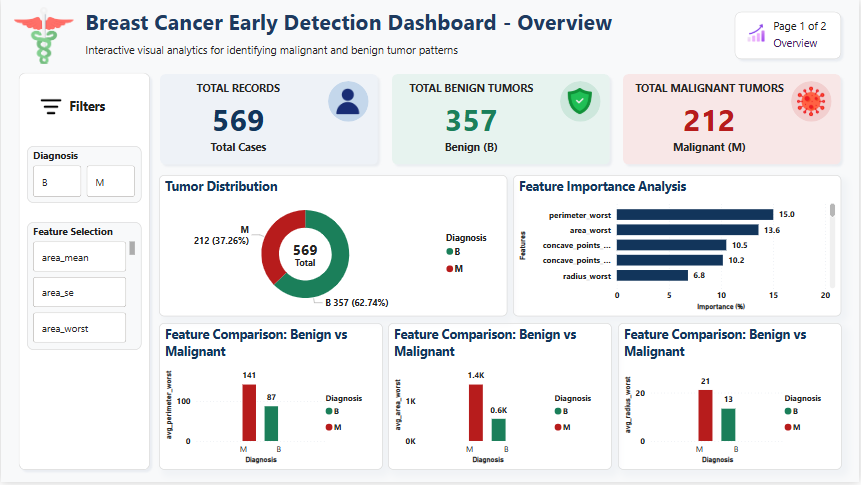

This screenshot's page, from the dashboard's own definition file:
{"tool":"powerbi","page":{"name":"Page 1","canvas":[1280,720],"ordinal":0},"visuals":[{"type":"textbox","box":[121.4,3.9,805.3,59.3],"z":0},{"type":"textbox","box":[1148,23.1,92.5,34.4],"z":0,"group":"g3"},{"type":"textbox","box":[410.9,352.8,86.7,40.5],"z":0,"group":"g1"},{"type":"textbox","box":[1148,48,92.5,34.4],"z":1000,"group":"g3"},{"type":"textbox","box":[121.4,58.8,574,36.1],"z":1000},{"type":"textbox","box":[410.9,378.8,86.7,34.7],"z":1000,"group":"g1"},{"type":"shape","box":[19.4,101.5,210.4,607],"z":2000},{"type":"advancedSlicerVisual","fields":{"Values":["early_disease vw_base_breast_cancer.diagnosis"]},"box":[39,218.3,170.6,85.3],"z":3000},{"type":"advancedSlicerVisual","fields":{"Values":["early_disease vw_feature_importance.feature"]},"box":[39,331.1,170.6,190.8],"z":4000},{"type":"shape","box":[229.9,103.1,340,150],"z":5000},{"type":"shape","box":[575.4,102.7,339.8,150.4],"z":6000},{"type":"shape","box":[921,102.7,339.8,150.4],"z":7000},{"type":"card","title":"TOTAL RECORDS","fields":{"Values":["early_disease breast_cancer.kpi_total_records"]},"box":[274.7,121.4,159,112.8],"z":8000},{"type":"card","title":"TOTAL BENIGN TUMORS","fields":{"Values":["early_disease breast_cancer.kpi_total_benign"]},"box":[598.6,121.4,206.7,112.8],"z":9000},{"type":"card","title":"TOTAL MALIGNANT TUMORS","fields":{"Values":["early_disease breast_cancer.kpi_total_malignant"]},"box":[939.8,121.4,234.2,112.8],"z":10000},{"type":"donutChart","title":"Tumor Distribution","fields":{"Category":["early_disease vw_tumor_distribution.diagnosis"],"Y":["Sum(early_disease vw_tumor_distribution.tumor_count)"]},"box":[235.7,261.7,520,211.1],"z":11000,"group":"g2"},{"type":"clusteredBarChart","title":"Feature Importance Analysis","fields":{"Category":["early_disease vw_feature_importance.feature"],"Y":["Sum(early_disease vw_feature_importance.importance_pct)"]},"box":[764.8,261.7,490.1,211.1],"z":11000},{"type":"clusteredColumnChart","title":"Feature Comparison: Benign vs Malignant ","fields":{"Y":["Sum(early_disease vw_feature_comparison.avg_perimeter_worst)"],"Category":["early_disease vw_feature_comparison.diagnosis"],"Series":["early_disease vw_base_breast_cancer.diagnosis"]},"box":[235.8,482.1,334.3,219.4],"z":12000},{"type":"clusteredColumnChart","title":"Feature Comparison: Benign vs Malignant ","fields":{"Category":["early_disease vw_feature_comparison.diagnosis"],"Series":["early_disease vw_base_breast_cancer.diagnosis"],"Y":["Sum(early_disease vw_feature_comparison.avg_radius_worst)"]},"box":[920.9,482.1,334.3,219.4],"z":13000},{"type":"group","id":"g1","title":"Group 1","box":[410.9,352.8,86.7,60.7],"z":14000,"group":"g2"},{"type":"clusteredColumnChart","title":"Feature Comparison: Benign vs Malignant ","fields":{"Category":["early_disease vw_feature_comparison.diagnosis"],"Series":["early_disease vw_base_breast_cancer.diagnosis"],"Y":["Sum(early_disease vw_feature_comparison.avg_area_worst)"]},"box":[577.6,482.1,334.3,219.4],"z":14000},{"type":"group","id":"g2","title":"Group 2","box":[235.7,261.7,520,211.1],"z":15000},{"type":"textbox","box":[96.9,140.2,75.2,41.9],"z":16000},{"type":"shape","box":[1088.7,10.1,173.5,85.3],"z":17000},{"type":"group","id":"g3","title":"Group 3","box":[1148,23.1,92.5,59.3],"z":18000},{"type":"image","box":[18.8,10.1,89.6,85.3],"z":19000},{"type":"image","box":[52,140.2,44.8,37.6],"z":20000},{"type":"shape","box":[488.7,121.4,60.7,60.7],"z":21000},{"type":"shape","box":[834.2,121.4,60.7,60.7],"z":22000},{"type":"shape","box":[1179.8,121.4,60.7,60.7],"z":23000},{"type":"image","box":[490.1,131.6,56.4,40.5],"z":24000},{"type":"image","box":[838.6,127.2,50.6,47.7],"z":25000},{"type":"image","box":[1185.5,127.2,47.7,49.2],"z":26000},{"type":"image","box":[1113.3,30.4,27.5,37.6],"z":27000}]}

Visuals, with their boxes in screenshot pixels (x1, y1, x2, y2), scaled from the page's 1280x720 canvas onto the 861x485 screenshot:
textbox: (x1=82, y1=3, x2=623, y2=43)
textbox: (x1=772, y1=16, x2=834, y2=39)
textbox: (x1=276, y1=238, x2=335, y2=265)
textbox: (x1=772, y1=32, x2=834, y2=56)
textbox: (x1=82, y1=40, x2=468, y2=64)
textbox: (x1=276, y1=255, x2=335, y2=279)
shape: (x1=13, y1=68, x2=155, y2=477)
advancedSlicerVisual - early_disease vw_base_breast_cancer.diagnosis: (x1=26, y1=147, x2=141, y2=205)
advancedSlicerVisual - early_disease vw_feature_importance.feature: (x1=26, y1=223, x2=141, y2=352)
shape: (x1=155, y1=69, x2=383, y2=170)
shape: (x1=387, y1=69, x2=616, y2=170)
shape: (x1=620, y1=69, x2=848, y2=170)
"TOTAL RECORDS" card: (x1=185, y1=82, x2=292, y2=158)
"TOTAL BENIGN TUMORS" card: (x1=403, y1=82, x2=542, y2=158)
"TOTAL MALIGNANT TUMORS" card: (x1=632, y1=82, x2=790, y2=158)
"Tumor Distribution" donutChart: (x1=159, y1=176, x2=508, y2=318)
"Feature Importance Analysis" clusteredBarChart: (x1=514, y1=176, x2=844, y2=318)
"Feature Comparison: Benign vs Malignant " clusteredColumnChart: (x1=159, y1=325, x2=383, y2=473)
"Feature Comparison: Benign vs Malignant " clusteredColumnChart: (x1=619, y1=325, x2=844, y2=473)
"Group 1" group: (x1=276, y1=238, x2=335, y2=279)
"Feature Comparison: Benign vs Malignant " clusteredColumnChart: (x1=389, y1=325, x2=613, y2=473)
"Group 2" group: (x1=159, y1=176, x2=508, y2=318)
textbox: (x1=65, y1=94, x2=116, y2=123)
shape: (x1=732, y1=7, x2=849, y2=64)
"Group 3" group: (x1=772, y1=16, x2=834, y2=56)
image: (x1=13, y1=7, x2=73, y2=64)
image: (x1=35, y1=94, x2=65, y2=120)
shape: (x1=329, y1=82, x2=370, y2=123)
shape: (x1=561, y1=82, x2=602, y2=123)
shape: (x1=794, y1=82, x2=834, y2=123)
image: (x1=330, y1=89, x2=368, y2=116)
image: (x1=564, y1=86, x2=598, y2=118)
image: (x1=797, y1=86, x2=830, y2=119)
image: (x1=749, y1=20, x2=767, y2=46)
